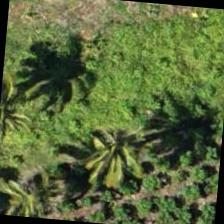Kelapa_Sawit: (68, 102, 166, 200), (0, 138, 73, 220), (0, 70, 50, 165)
